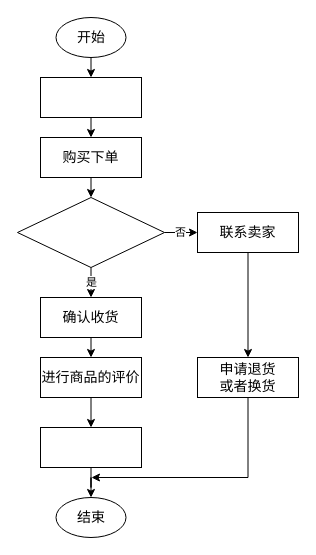
Some shapes in this 316 by 555 pixel diagram are drawn without their labels. Here are the shapes that lost their labels. From the top down, the centre of each, then its label:
point (91, 97): 挑选商品
point (90, 232): 收到货物后 是否满意
point (91, 447): 商品评价更新
